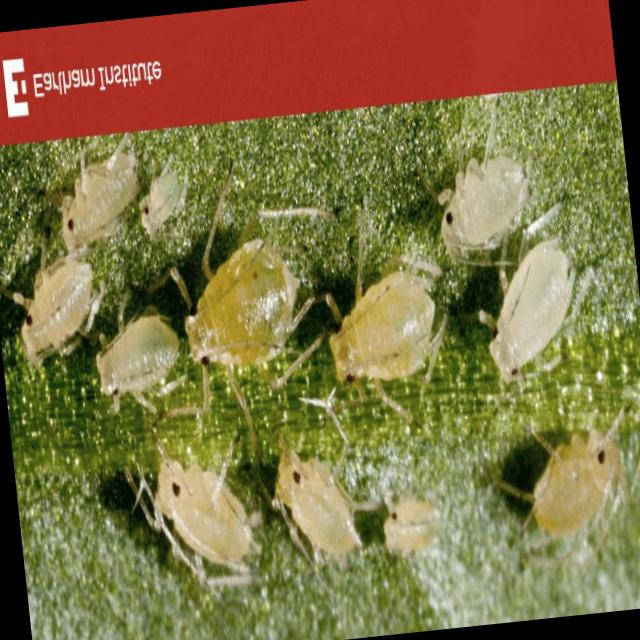Aphids: (150, 183, 342, 421), (467, 212, 611, 396), (301, 246, 454, 404), (497, 411, 640, 580), (421, 98, 543, 284), (267, 422, 382, 598), (136, 446, 262, 586), (43, 130, 154, 267), (76, 297, 193, 421), (8, 245, 104, 372), (129, 142, 206, 250), (382, 492, 447, 558)
